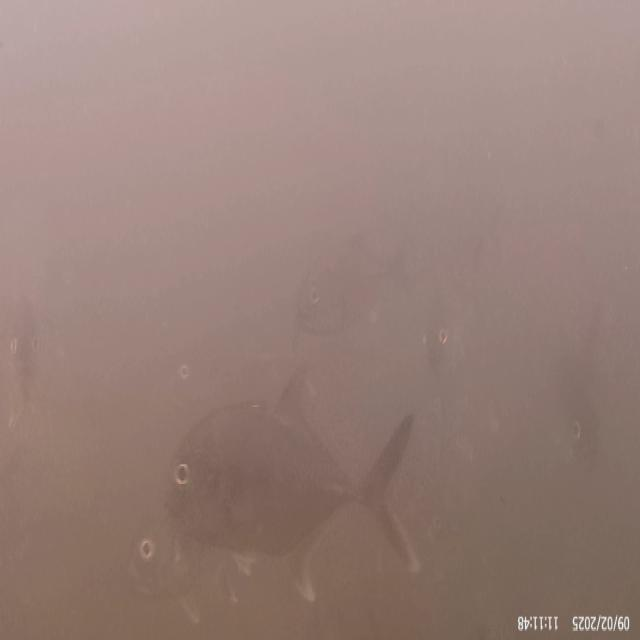ikan: (131, 364, 422, 606)
